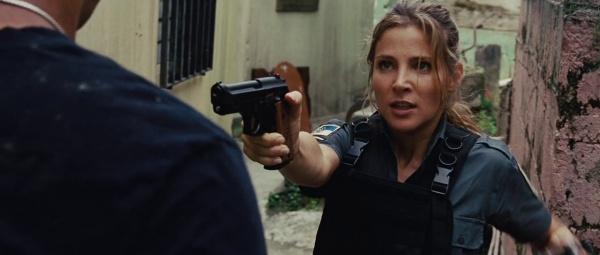Gun: (211, 73, 289, 136)
